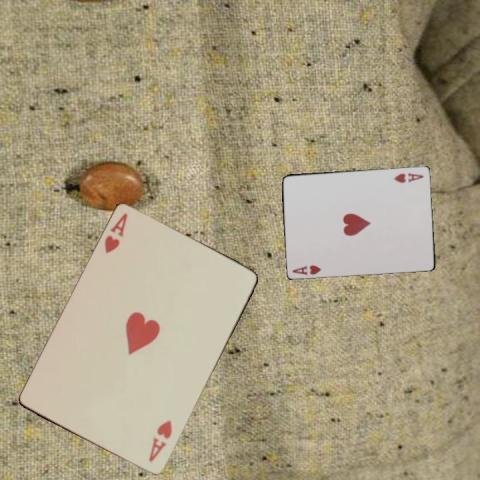Ah: (145, 417, 174, 464), (102, 210, 130, 255), (392, 169, 426, 184), (289, 262, 323, 276)
